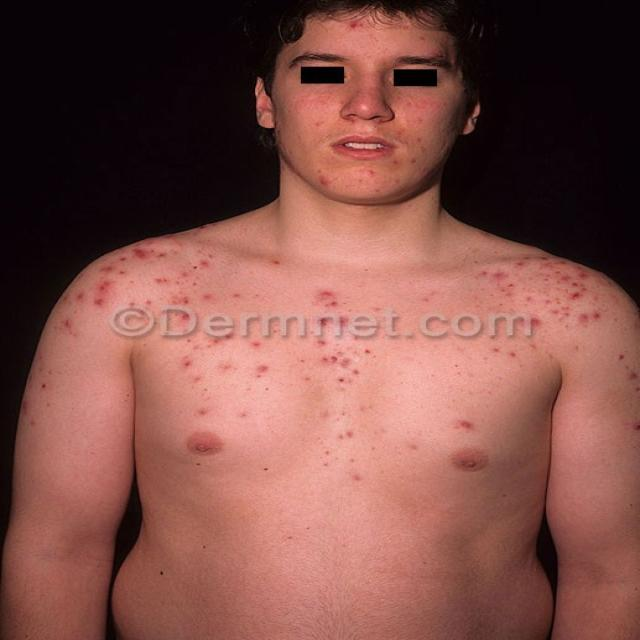acne: (452, 232, 588, 330), (80, 249, 225, 313), (308, 278, 368, 390)
